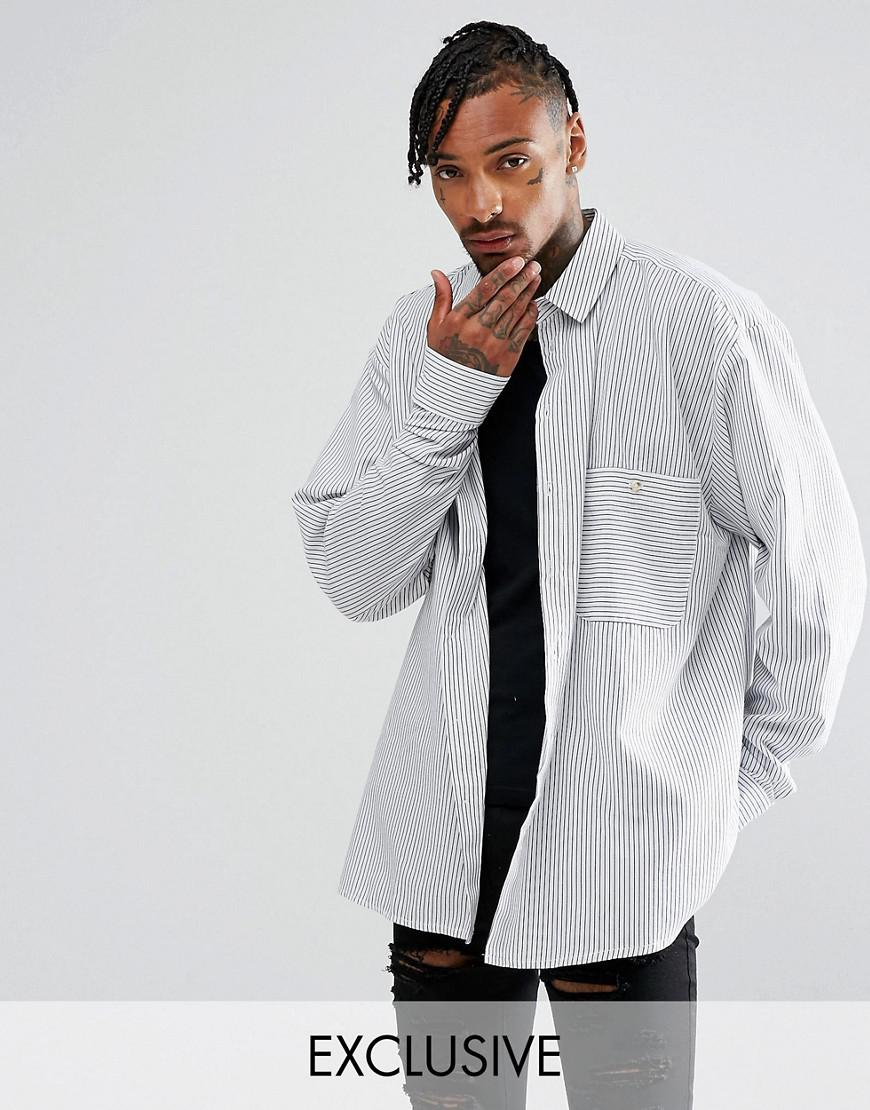teeshirt: (276, 215, 870, 967)
